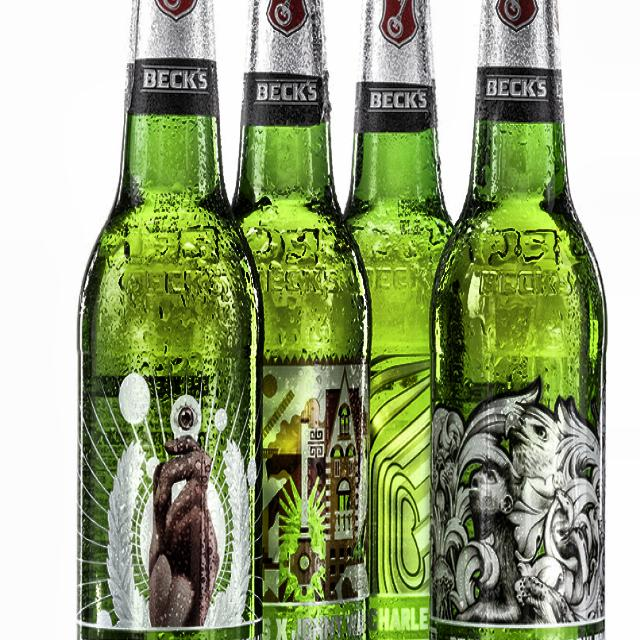glass: (77, 0, 611, 640)
